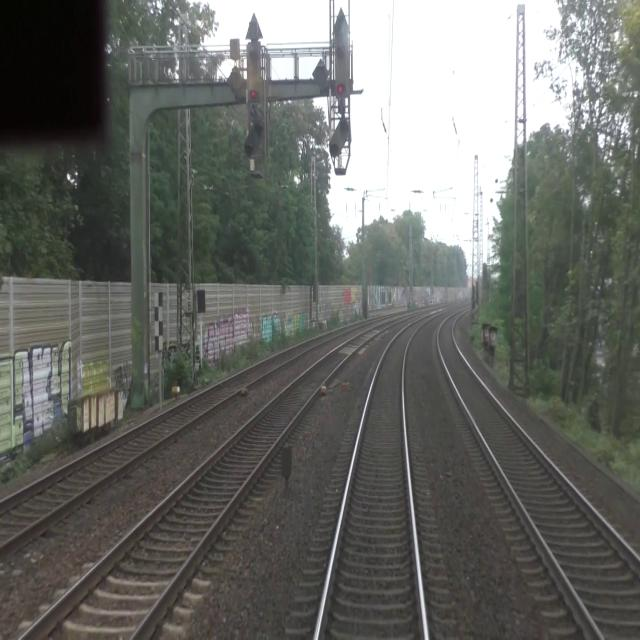rail-track: (25, 324, 385, 639), (0, 329, 342, 542), (439, 313, 640, 639), (318, 318, 426, 639)
